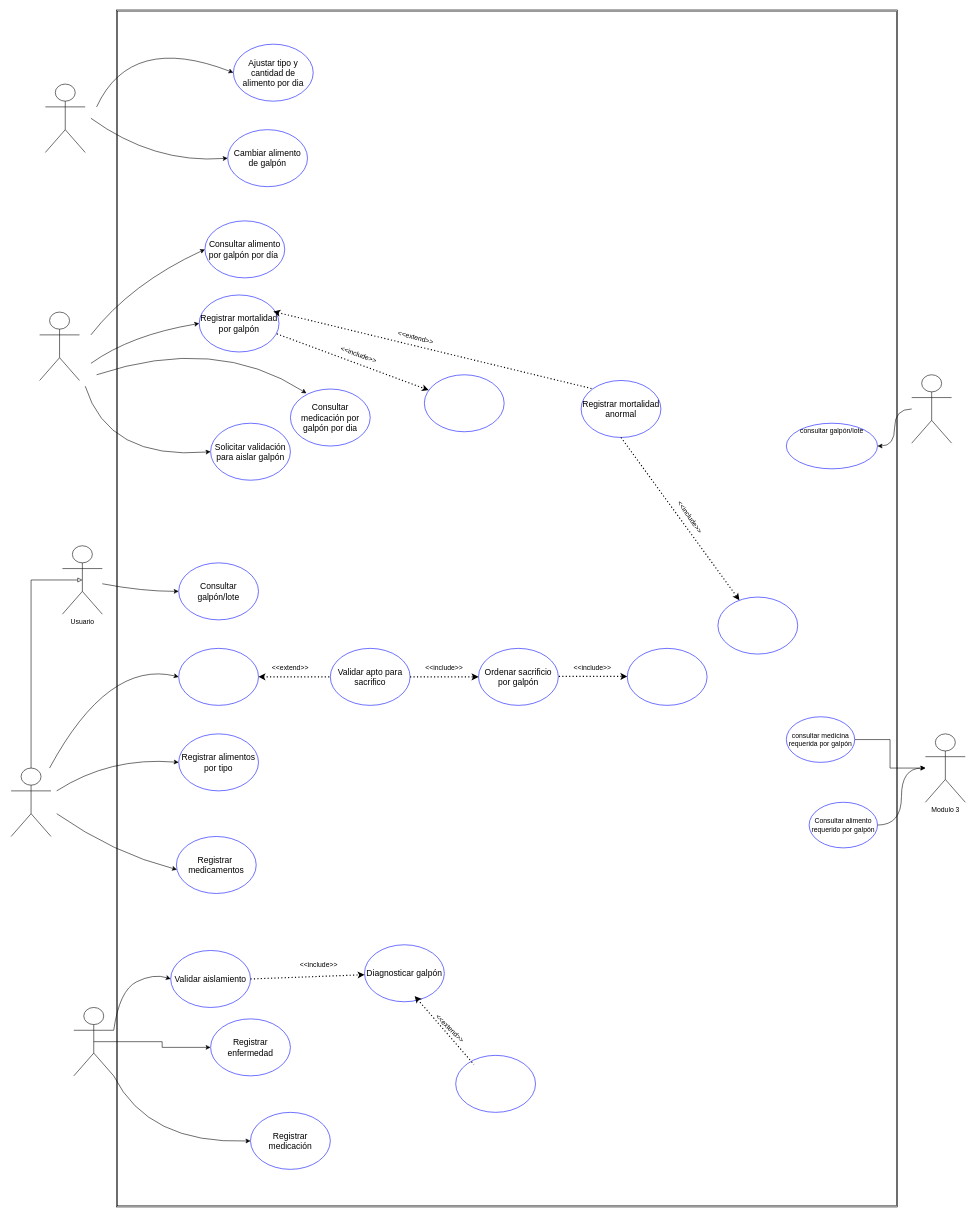
The diagram is 975 pixels wide and 1217 high, and some of its shapes have lost their labels. Here are the shapes that lost their labels. From the top down, the centre of each, then its label:
At point (65, 118): "Nutricionista".
At point (59, 346): "Trabajador".
At point (464, 403): "Actualizar inventario vivo por galpón".
At point (931, 408): "Modulo 1".
At point (757, 625): "Generar alerta sanitaria".
At point (218, 676): "Consultar edad por galpón".
At point (667, 676): "Registrar peso de pollos finales".
At point (31, 802): "Administrador".
At point (93, 1041): "Veterinario".
At point (495, 1083): "Ordenar sacrificio sanitario".
